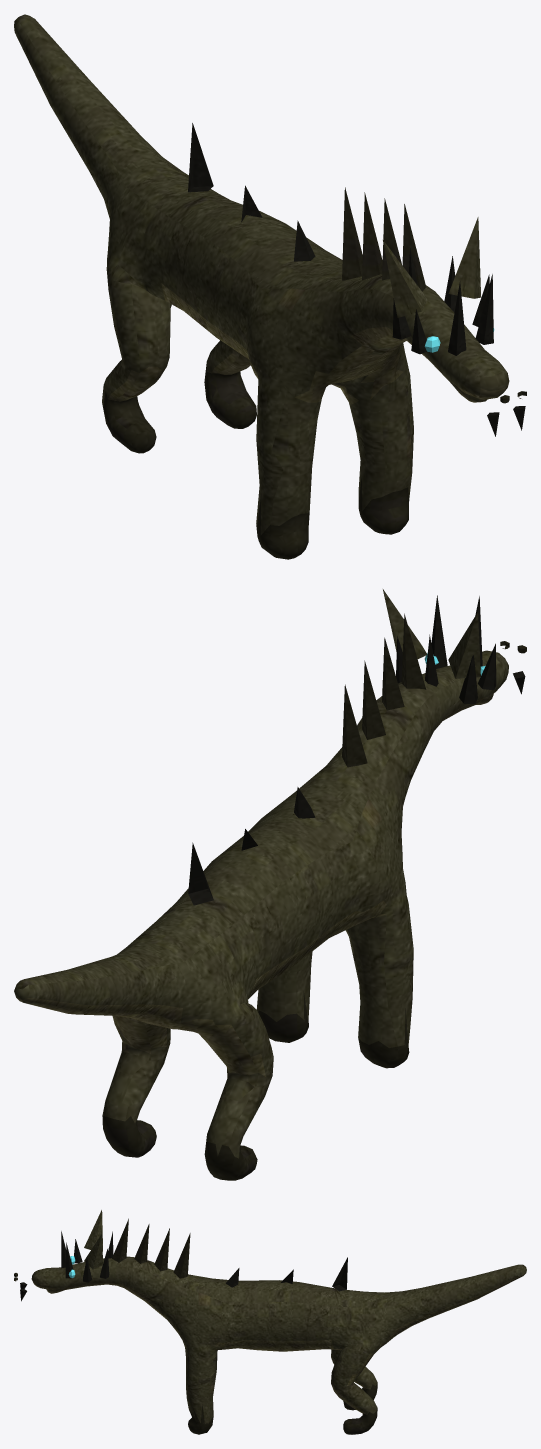
File: boss_02.glb
3 views of the same model, one above another, from view 1: azimuth 30°, elevation 25°; view 2: azimuth 150°, elevation 25°; view 3: azimuth 270°, elevation 25° (orthographic). The views are drawn at different scales.
Visible parts, largest first — view 1: boss_02; view 2: boss_02; view 3: boss_02.
Boxes of the visible parts, bbox=[...] form: boss_02: bbox=[14, 14, 526, 559]; boss_02: bbox=[14, 589, 526, 1180]; boss_02: bbox=[14, 1210, 526, 1434].
Bounding box in the file's own units: 0.9982 × 2.52 × 5.76.
Materials: 5 (5 with a texture image).
